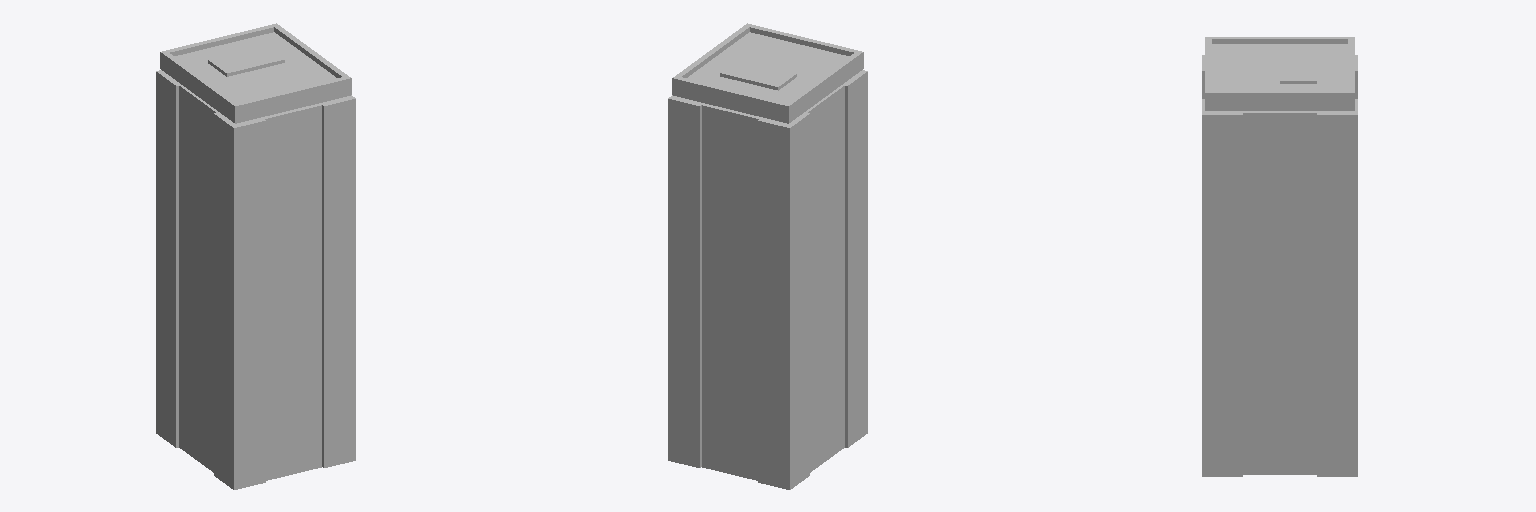
Rendered from building_01.obj.
3 renders of one model, left to right at view 1: azimuth 30°, elevation 25°; view 2: azimuth 150°, elevation 25°; view 3: azimuth 270°, elevation 25°, orthographic.
Visible parts, largest first — view 1: Highrise_7; view 2: Highrise_7; view 3: Highrise_7.
Boxes of the visible parts, <box> form: Highrise_7: <box>156,23,355,489</box>; Highrise_7: <box>668,23,867,489</box>; Highrise_7: <box>1202,37,1357,476</box>.
Bounding box in the file's own units: 66.26 × 198 × 73.42.